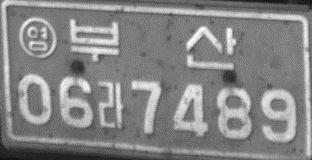0: (16, 72, 52, 125)
4: (173, 84, 209, 137)
6: (58, 74, 94, 129)
7: (130, 79, 162, 133)
8: (215, 86, 253, 140)
9: (260, 88, 297, 143)
라: (96, 80, 124, 130)
부산_D: (68, 18, 238, 71)
영: (17, 16, 56, 59)
